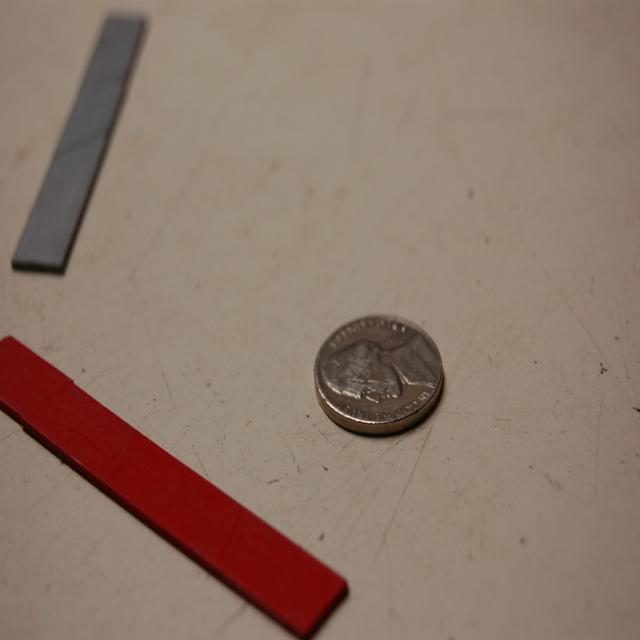Coin: (314, 311, 447, 435)
